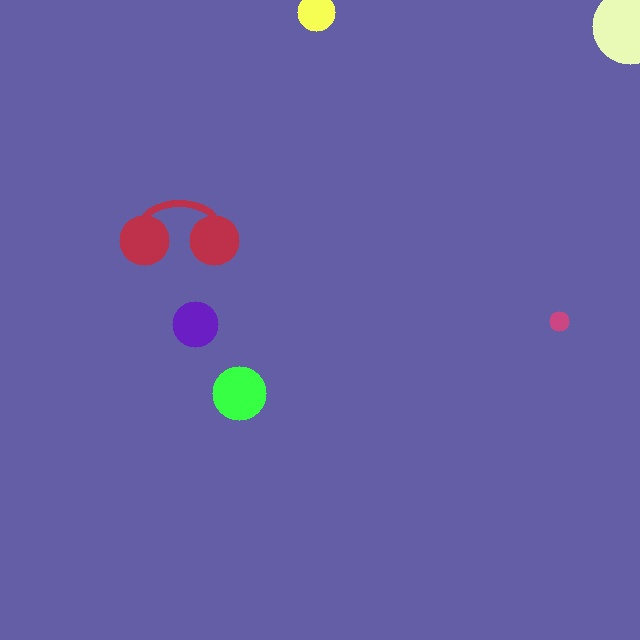over_ear: (115, 190, 243, 269)
